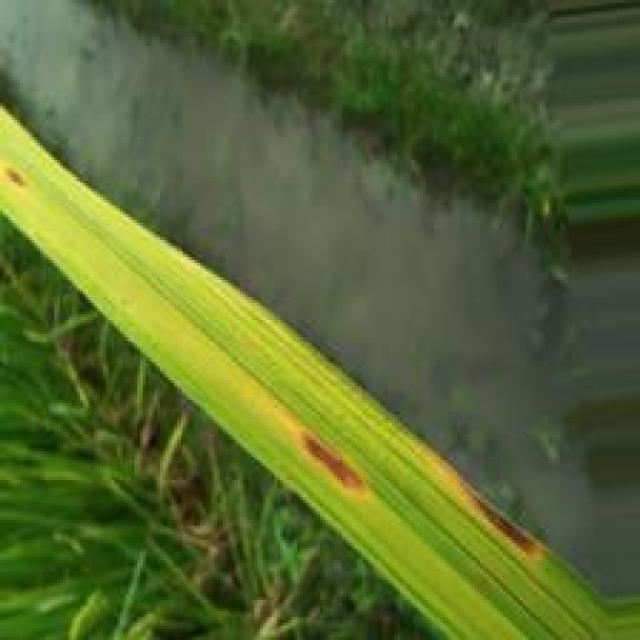Narrow_Brown_Leaf_Spot: (437, 453, 553, 566), (294, 434, 376, 504)
